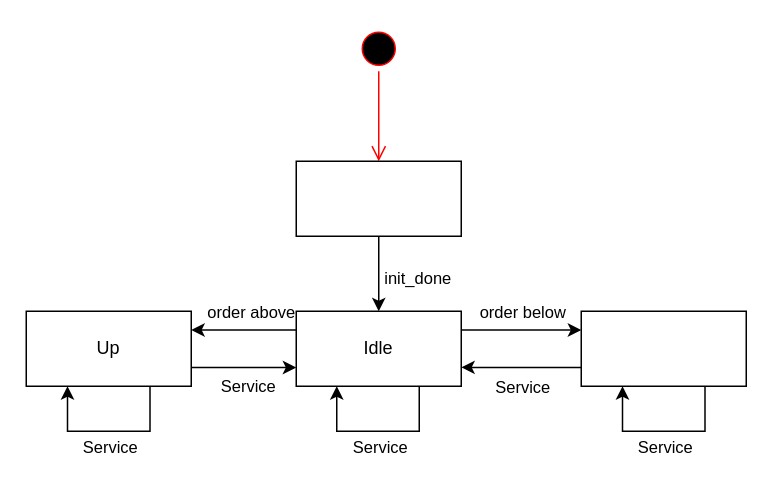
Some shapes in this 773 by 483 pixel diagram are drawn without their labels. Each missing label, with the centre of its shape:
Down: the point at 663,348
Init state: the point at 378,198
